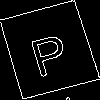P: (24, 25, 72, 78)
